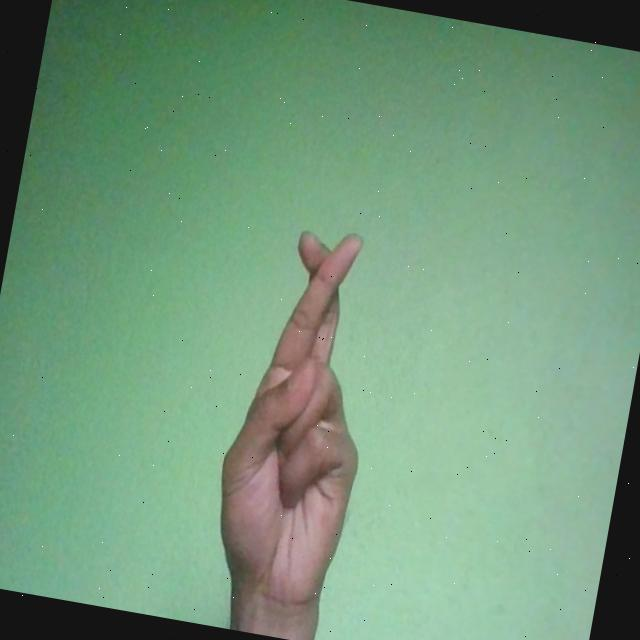Ok: (199, 220, 396, 622)
